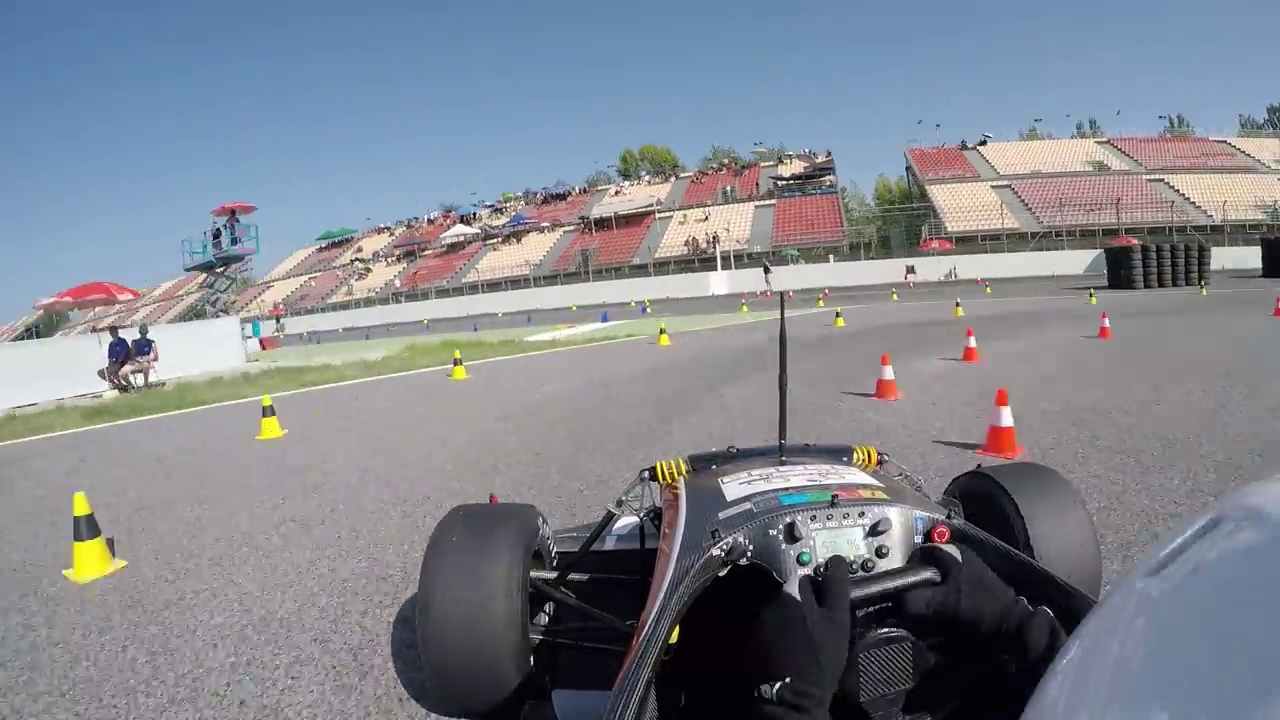Cone: (61, 490, 125, 582), (973, 388, 1027, 457), (254, 394, 288, 440), (873, 349, 903, 399), (954, 326, 985, 363), (447, 348, 468, 381)
